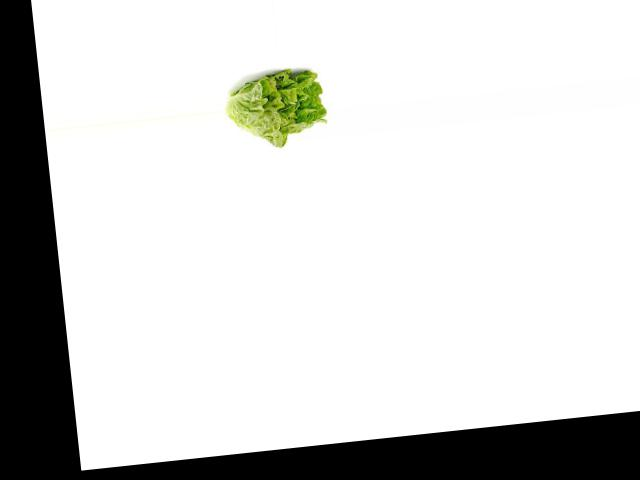lettuce: (222, 60, 329, 151)
